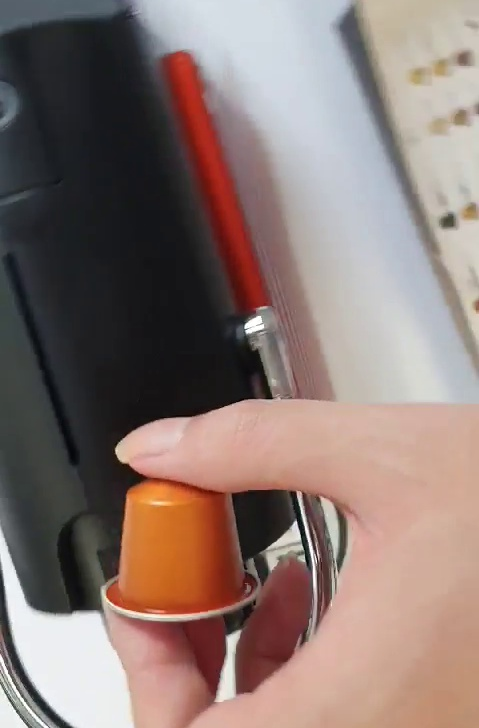capsule_5: (102, 470, 269, 623)
